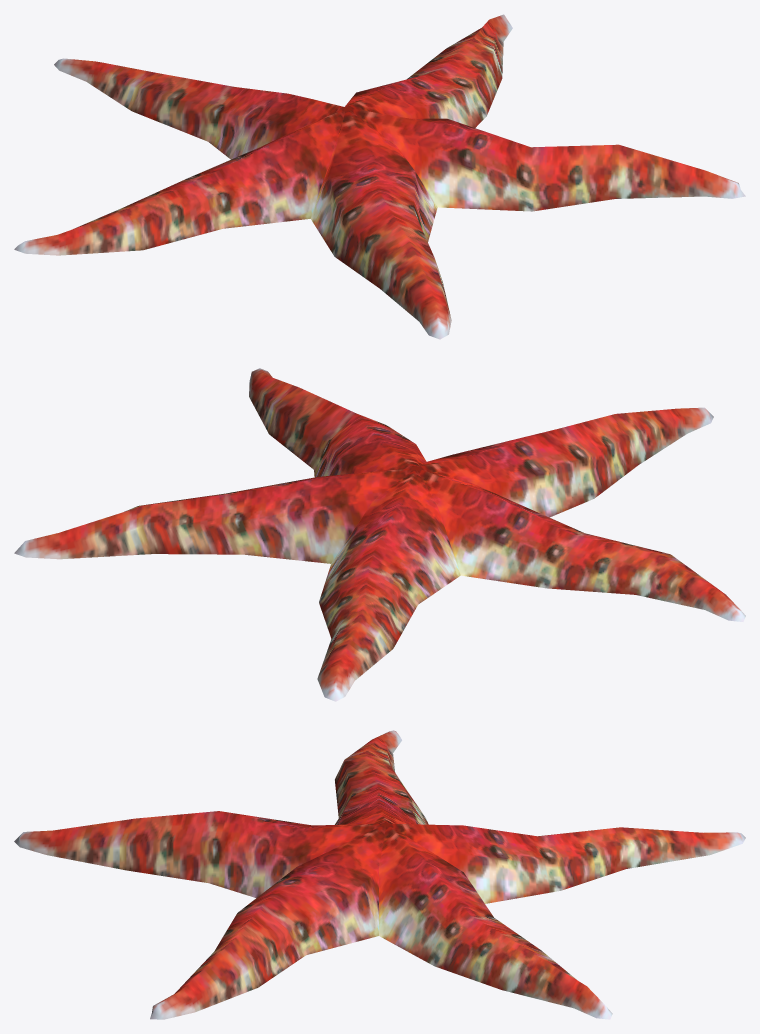
Rendered from environment_common_seahaixing_001_c.FBX.
The picture shows the model from 3 angles, top to bottom: view 1: azimuth 30°, elevation 25°; view 2: azimuth 150°, elevation 25°; view 3: azimuth 270°, elevation 25°; orthographic projection. The views are drawn at different scales.
Parts seen in each view (by area): view 1: environment_common_seahaixing_001_c; view 2: environment_common_seahaixing_001_c; view 3: environment_common_seahaixing_001_c.
Part boxes in pixels (x1,y1,x2,y2): environment_common_seahaixing_001_c: [14, 14, 745, 339]; environment_common_seahaixing_001_c: [14, 368, 745, 701]; environment_common_seahaixing_001_c: [14, 730, 745, 1019].
Size of the model in its own units: 315 by 33.38 by 342.
